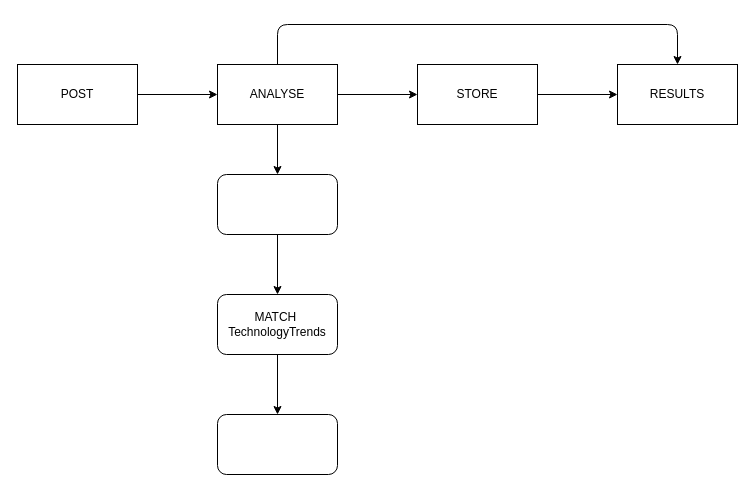
The diagram is 755 pixels wide and 492 high, and some of its shapes have lost their labels. Here are the shapes that lost their labels. From the top down, the centre of each, then its label:
At [277,204]: "MATCH BusinessTrends".
At [277,444]: "MATCH Insights".
